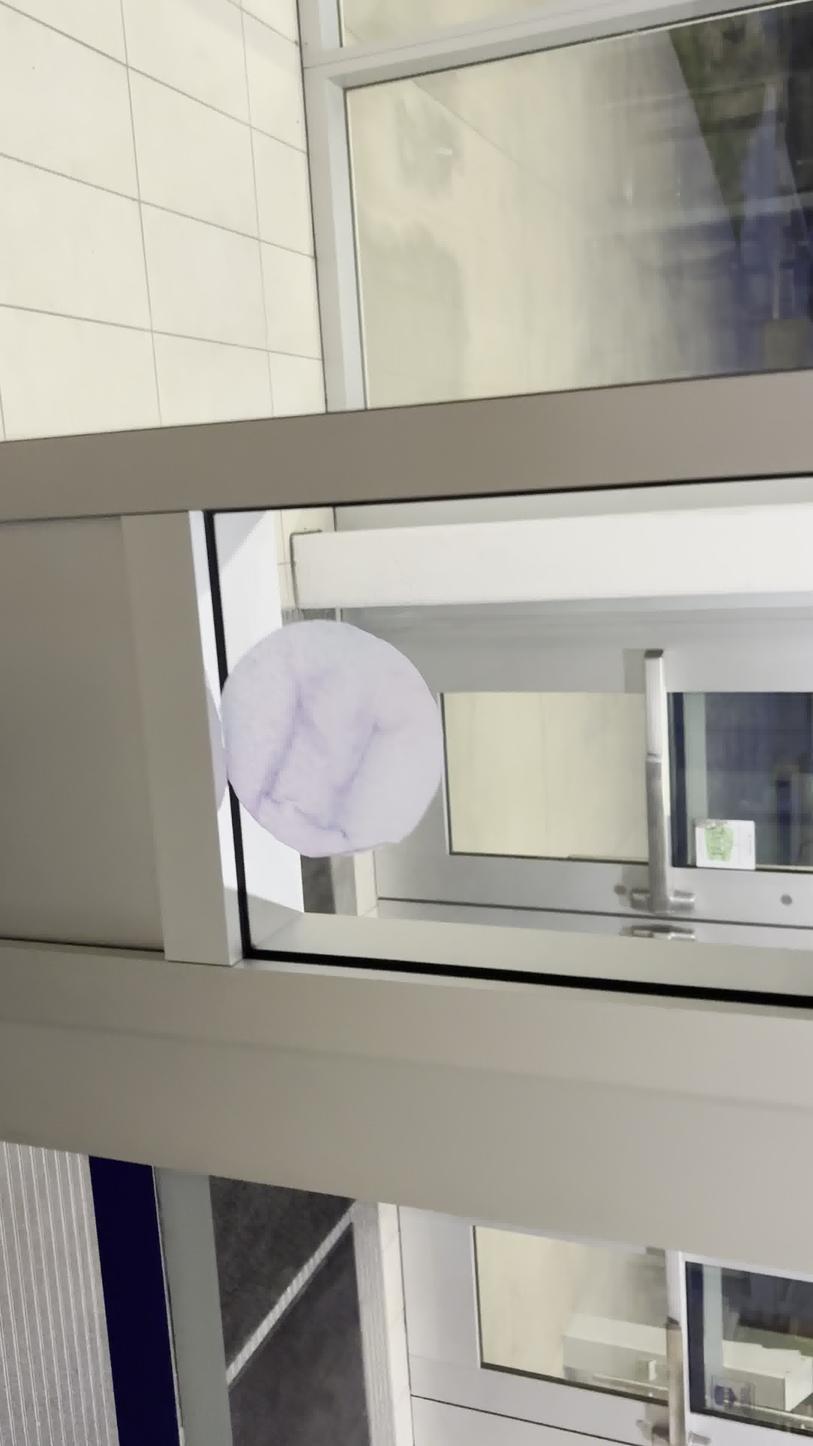Target: (213, 623, 448, 858)
